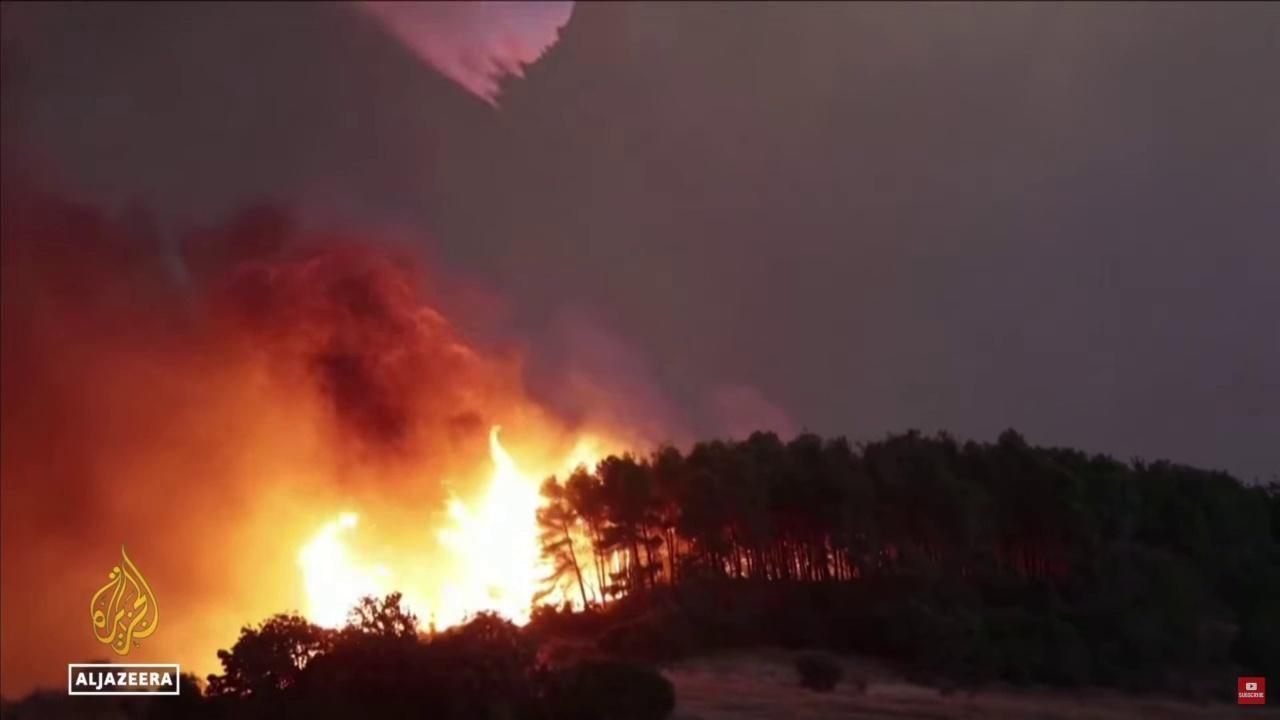fire: (293, 417, 652, 652)
smoke: (0, 157, 703, 705)
